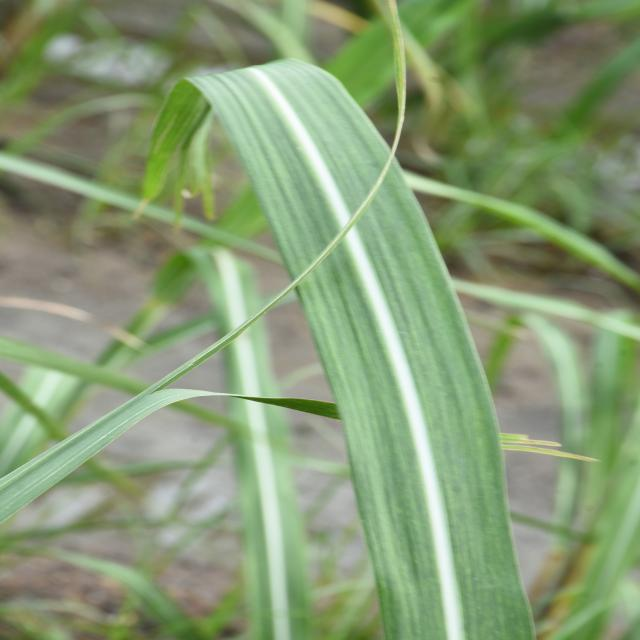Sugarcane: (184, 57, 534, 640)
